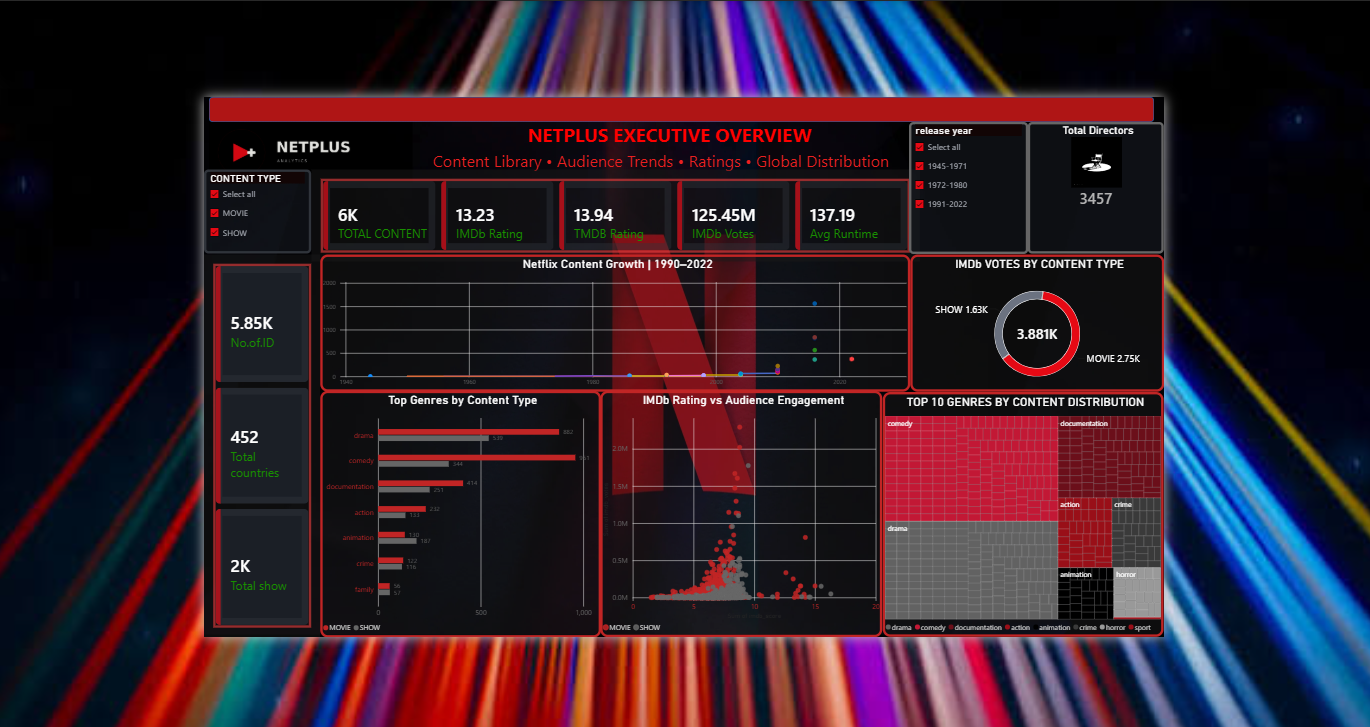

The dashboard page shown, as its layout file describes it:
{"tool":"powerbi","page":{"name":"NetPLUS Executive Overview","canvas":[1920,1080],"ordinal":0},"visuals":[{"type":"shape","box":[10,0,1890,50],"z":0},{"type":"image","box":[10,0,407.5,222.5],"z":1000},{"type":"textbox","box":[310,50,1100,120],"z":2000},{"type":"cardVisual","fields":{"Data":["Sum(netflix_analytics vw_content_summary.total_content)","Sum(netflix_analytics vw_content_summary.avg_imdb_score)","Sum(netflix_analytics vw_content_summary.avg_tmdb_score)","Sum(netflix_analytics vw_content_summary.total_imdb_votes)","Sum(netflix_analytics vw_content_summary.avg_runtime)"]},"box":[214,146,1216.6,184.1],"z":3000},{"type":"slicer","fields":{"Values":["netflix_analytics vw_content_summary.type"]},"box":[0,146,214,168],"z":4000},{"type":"slicer","fields":{"Values":["netflix_analytics titles.release_year (groups) 2"]},"box":[1410,50,238,264],"z":5000},{"type":"cardVisual","fields":{"Data":["Count(netflix_analytics titles.id)","Count(netflix_analytics titles.production_countries)","Sum(netflix_analytics vw_yearly_content_trend.show_count)"]},"box":[0,314,232,766],"z":6000},{"type":"lineChart","title":"Netflix Content Growth | 1990–2022","fields":{"Category":["netflix_analytics vw_yearly_content_trend.release_year (bins)"],"Series":["netflix_analytics vw_yearly_content_trend.movie_count"],"Y":["Sum(netflix_analytics vw_yearly_content_trend.total_content)"]},"box":[232,314,1180,274],"z":7000},{"type":"donutChart","title":"IMDb VOTES BY CONTENT TYPE","fields":{"Category":["netflix_analytics vw_content_summary.type"],"Y":["Count(netflix_analytics vw_content_ranking.imdb_votes)"]},"box":[1412,314,508,274],"z":8000},{"type":"clusteredBarChart","title":"Top Genres by Content Type","fields":{"Category":["netflix_analytics titles.genres.1"],"Series":["netflix_analytics titles.type"],"Y":["CountNonNull(netflix_analytics titles.title)"]},"box":[231.9,587.1,561.4,493.3],"z":9000},{"type":"scatterChart","title":"IMDb Rating vs Audience Engagement","fields":{"Category":["netflix_analytics titles.title"],"Series":["netflix_analytics titles.type"],"X":["Sum(netflix_analytics titles.imdb_score)"],"Y":["Sum(netflix_analytics titles.imdb_votes)"]},"box":[793.7,586.8,564.3,492.8],"z":10000},{"type":"kpi","title":"Total Directors ","fields":{"Indicator":["netflix_analytics credits.Total Directors"],"TrendLine":["netflix_analytics titles.release year"]},"box":[1647.2,49.7,272.4,263.2],"z":11000},{"type":"image","box":[1719,80.6,130.5,101.7],"z":12000},{"type":"treemap","title":"TOP 10 GENRES BY CONTENT DISTRIBUTION","fields":{"Details":["netflix_analytics titles.id"],"Group":["netflix_analytics titles.genres.1"],"Values":["CountNonNull(netflix_analytics titles.type)"]},"box":[1358.3,589,561.4,489.6],"z":13000}]}

Visuals, with their boxes on the page's 1920x1080 design canvas (x1, y1, x2, y2). These are canvas units, not pixel positions in the 1370x727 screenshot, which may show the page scaled, cropped or inside an application window:
shape: left=10, top=0, right=1900, bottom=50
image: left=10, top=0, right=418, bottom=222
textbox: left=310, top=50, right=1410, bottom=170
cardVisual - Sum(netflix_analytics vw_content_summary.total_content) x Sum(netflix_analytics vw_content_summary.avg_imdb_score): left=214, top=146, right=1431, bottom=330
slicer - netflix_analytics vw_content_summary.type: left=0, top=146, right=214, bottom=314
slicer - netflix_analytics titles.release_year (groups) 2: left=1410, top=50, right=1648, bottom=314
cardVisual - Count(netflix_analytics titles.id) x Count(netflix_analytics titles.production_countries): left=0, top=314, right=232, bottom=1080
"Netflix Content Growth | 1990–2022" lineChart: left=232, top=314, right=1412, bottom=588
"IMDb VOTES BY CONTENT TYPE" donutChart: left=1412, top=314, right=1920, bottom=588
"Top Genres by Content Type" clusteredBarChart: left=232, top=587, right=793, bottom=1080
"IMDb Rating vs Audience Engagement" scatterChart: left=794, top=587, right=1358, bottom=1080
"Total Directors " kpi: left=1647, top=50, right=1920, bottom=313
image: left=1719, top=81, right=1850, bottom=182
"TOP 10 GENRES BY CONTENT DISTRIBUTION" treemap: left=1358, top=589, right=1920, bottom=1079
